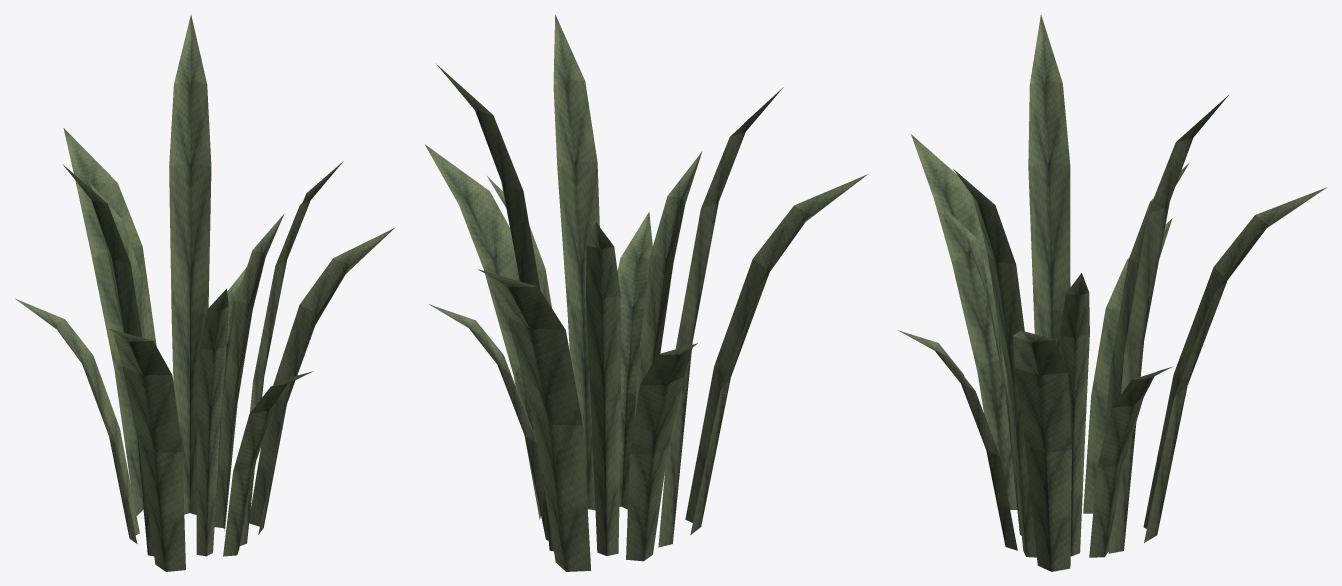
File: Tall Grass.fbx
The picture shows the model from 3 angles, left to right: view 1: azimuth 30°, elevation 25°; view 2: azimuth 150°, elevation 25°; view 3: azimuth 270°, elevation 25°; orthographic projection. The views are drawn at different scales.
Parts seen in each view (by area): view 1: Plane.051, Plane.056, Plane.060, Plane.054, Plane.058, Plane.052, Plane.057, Plane.061, Plane.055, Plane.053, Plane.050, Plane.059; view 2: Plane.060, Plane.053, Plane.050, Plane.061, Plane.056, Plane.055, Plane.058, Plane.057, Plane.054, Plane.051, Plane.059, Plane.052; view 3: Plane.055, Plane.058, Plane.056, Plane.060, Plane.053, Plane.051, Plane.052, Plane.059, Plane.061, Plane.057, Plane.050, Plane.054.
Part boxes in pixels (box(x1,y1,x2,y2)): Plane.051: box(169, 14, 211, 514); Plane.056: box(110, 329, 185, 571); Plane.060: box(63, 128, 156, 515); Plane.054: box(196, 288, 228, 556); Plane.058: box(249, 228, 394, 534); Plane.052: box(214, 213, 284, 531); Plane.057: box(223, 371, 313, 556); Plane.061: box(15, 298, 139, 543); Plane.055: box(62, 164, 153, 556); Plane.053: box(240, 161, 343, 545); Plane.050: box(88, 181, 150, 339); Plane.059: box(215, 267, 246, 511); Plane.060: box(478, 269, 591, 571); Plane.053: box(553, 15, 599, 509); Plane.050: box(586, 222, 620, 555); Plane.061: box(626, 343, 697, 561); Plane.056: box(685, 174, 867, 534); Plane.055: box(658, 87, 783, 547); Plane.058: box(425, 144, 540, 519); Plane.057: box(617, 212, 652, 509); Plane.054: box(634, 151, 702, 419); Plane.051: box(436, 64, 553, 551); Plane.059: box(429, 304, 548, 540); Plane.052: box(487, 176, 551, 307); Plane.055: box(1028, 15, 1070, 351); Plane.058: box(1013, 330, 1071, 571); Plane.056: box(911, 134, 1017, 509); Plane.060: box(1143, 187, 1326, 542); Plane.053: box(953, 169, 1036, 557); Plane.051: box(1108, 95, 1228, 553); Plane.052: box(1060, 273, 1089, 556); Plane.059: box(1089, 366, 1172, 557); Plane.061: box(1083, 218, 1172, 513); Plane.057: box(898, 330, 1017, 550); Plane.050: box(1105, 163, 1189, 433); Plane.054: box(941, 205, 1021, 535).
Bounding box in the file's own units: 456 × 582 × 470.
